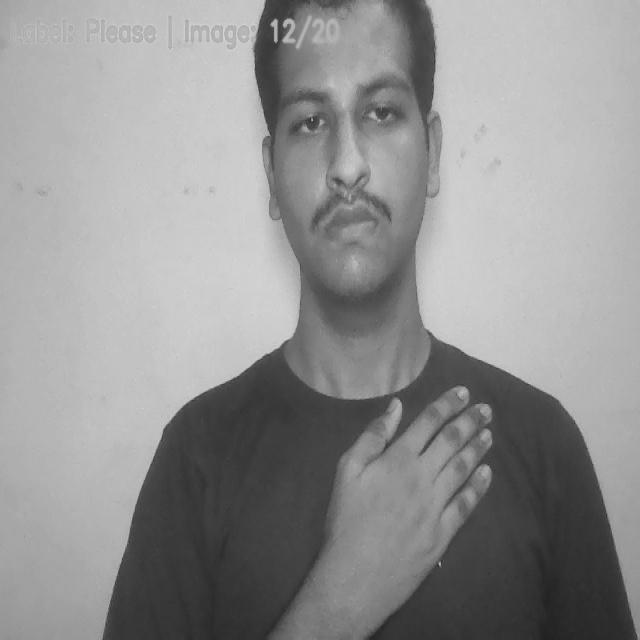Please: (322, 394, 490, 615)
